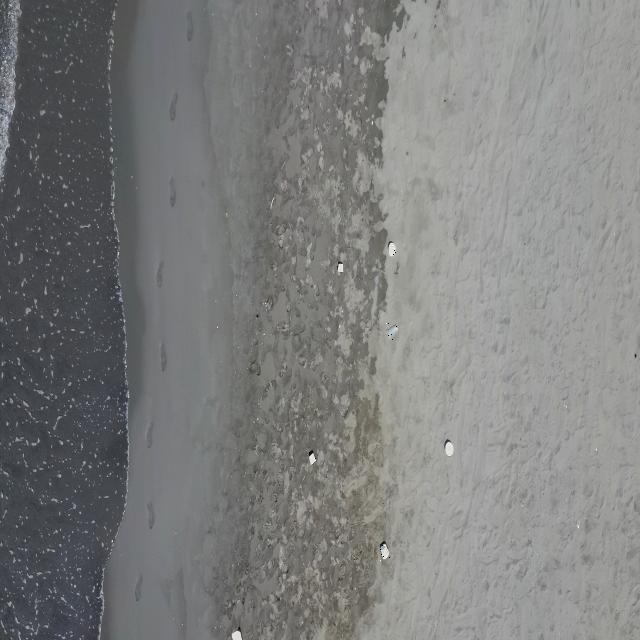take-away-containers: (380, 542, 390, 561), (444, 440, 454, 457), (387, 241, 396, 257), (231, 630, 243, 640), (309, 451, 317, 465), (337, 261, 344, 274)
takeaway-cup: (386, 322, 399, 340)
